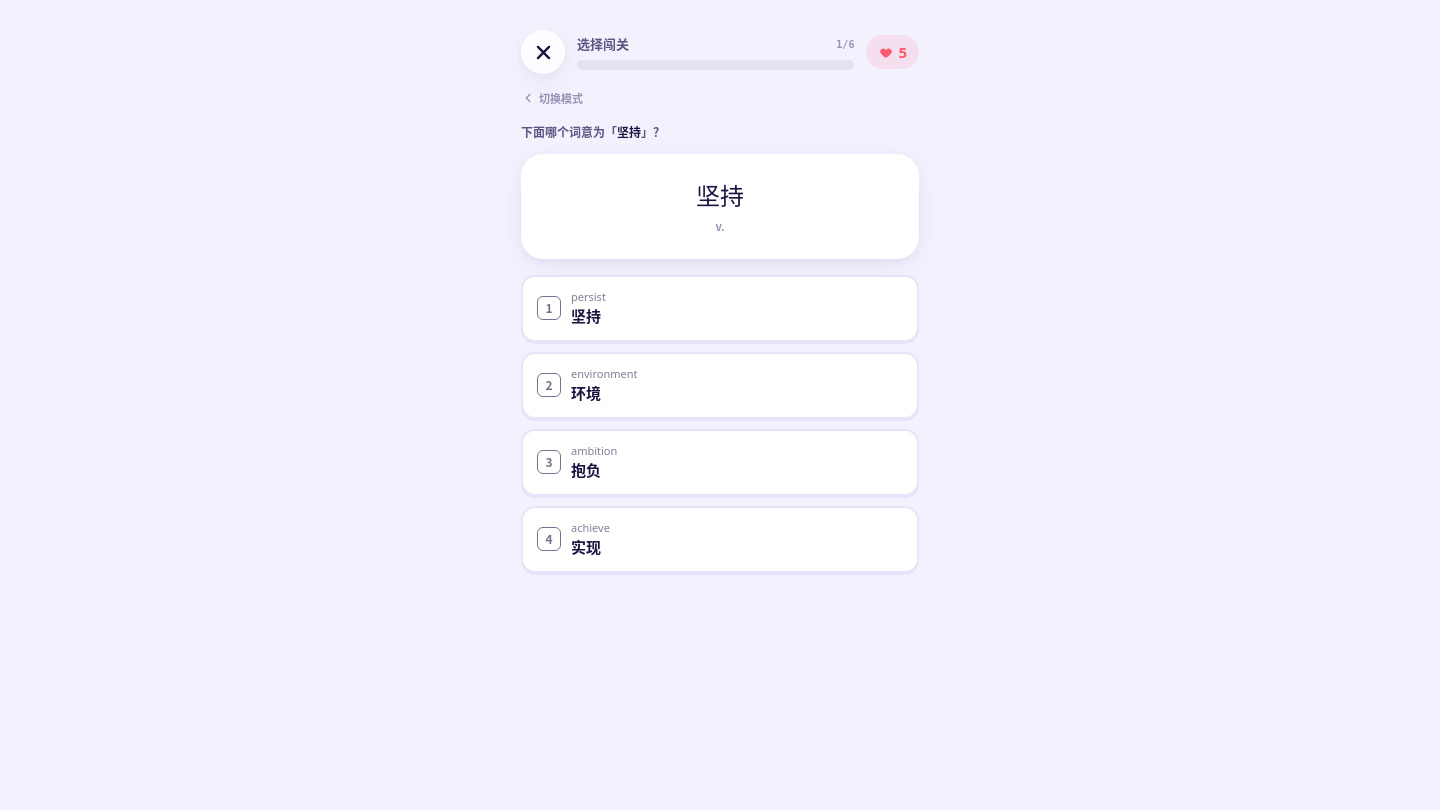
Test: StudySessionScreen › submits answered words to the learning API
The image size is (1440, 810).
Click the button "1 persist 坚持".
click(588, 296)  # box [521,275,919,342]
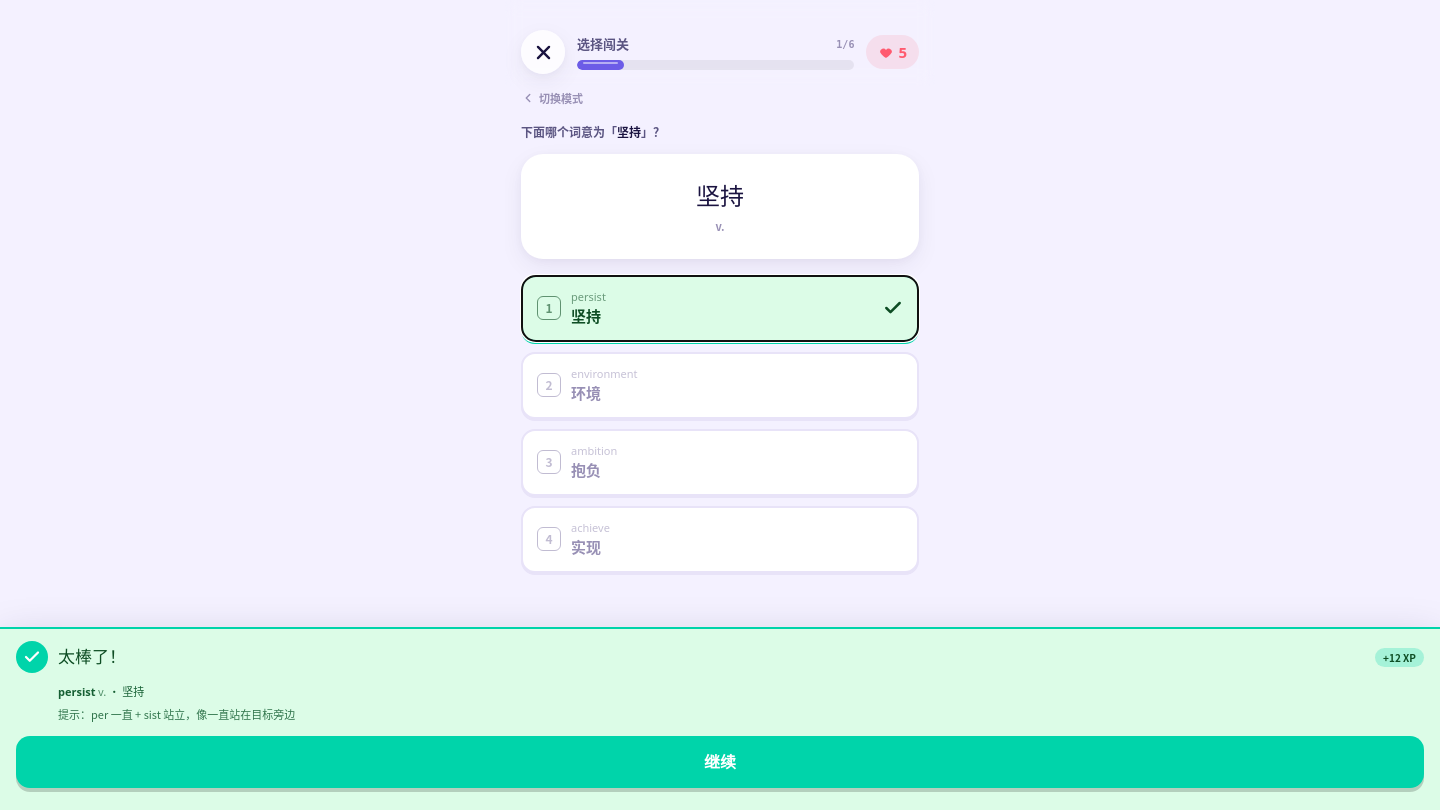
expect the text "太棒了！" is shown: met, box [58,645,126,668]
